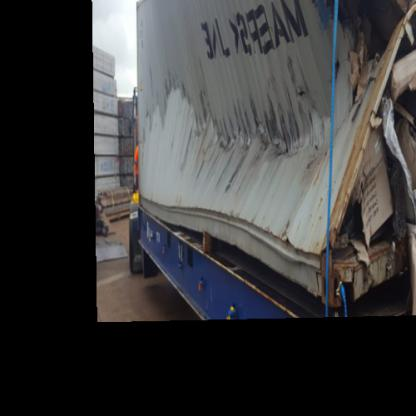Damage: (131, 6, 415, 300)
